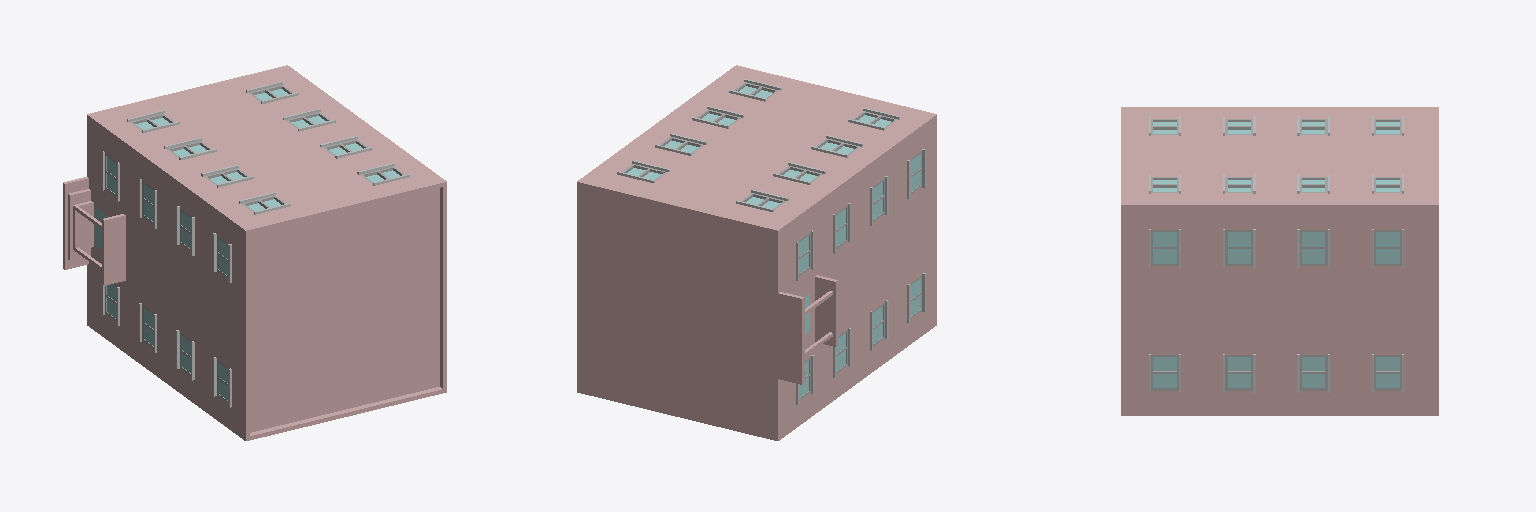
File: UnBrokenBuilding.obj
3 renders of one model, left to right at view 1: azimuth 30°, elevation 25°; view 2: azimuth 150°, elevation 25°; view 3: azimuth 270°, elevation 25°, orthographic.
Parts seen in each view (by area): view 1: UnBrokenBuilding; view 2: UnBrokenBuilding; view 3: UnBrokenBuilding.
Boxes of the visible parts, x1=… form: UnBrokenBuilding: x1=63, y1=65, x2=446, y2=440; UnBrokenBuilding: x1=577, y1=65, x2=936, y2=440; UnBrokenBuilding: x1=1121, y1=107, x2=1438, y2=415.
Size of the model in its own units: 11.31 by 10.23 by 13.7.